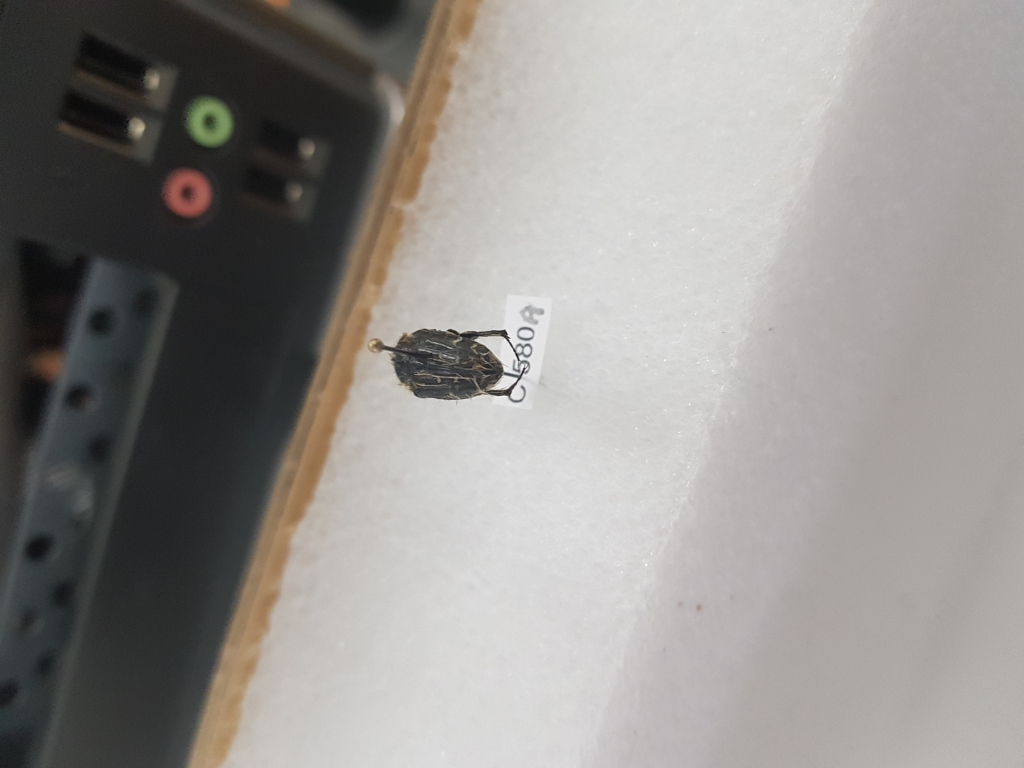Tropinota_hirta: (386, 315, 540, 408)
